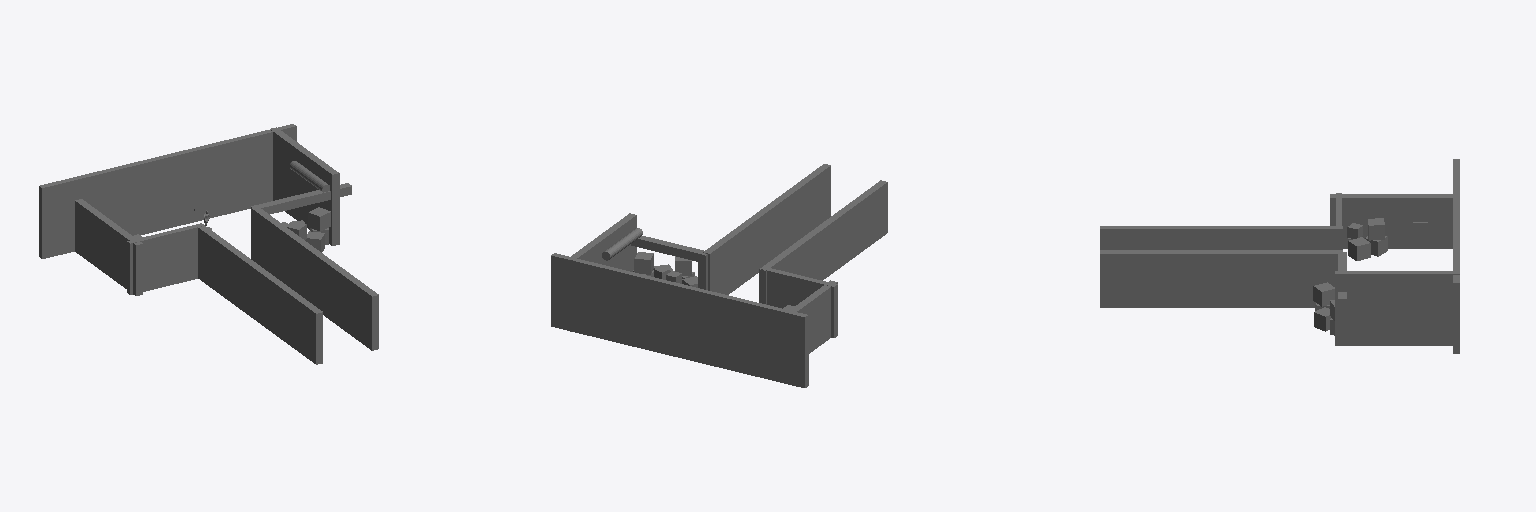
Rendered from level.obj.
3 renders of one model, left to right at view 1: azimuth 30°, elevation 25°; view 2: azimuth 150°, elevation 25°; view 3: azimuth 270°, elevation 25°, orthographic.
Size of the model in its own units: 23.92 by 6.43 by 29.37.